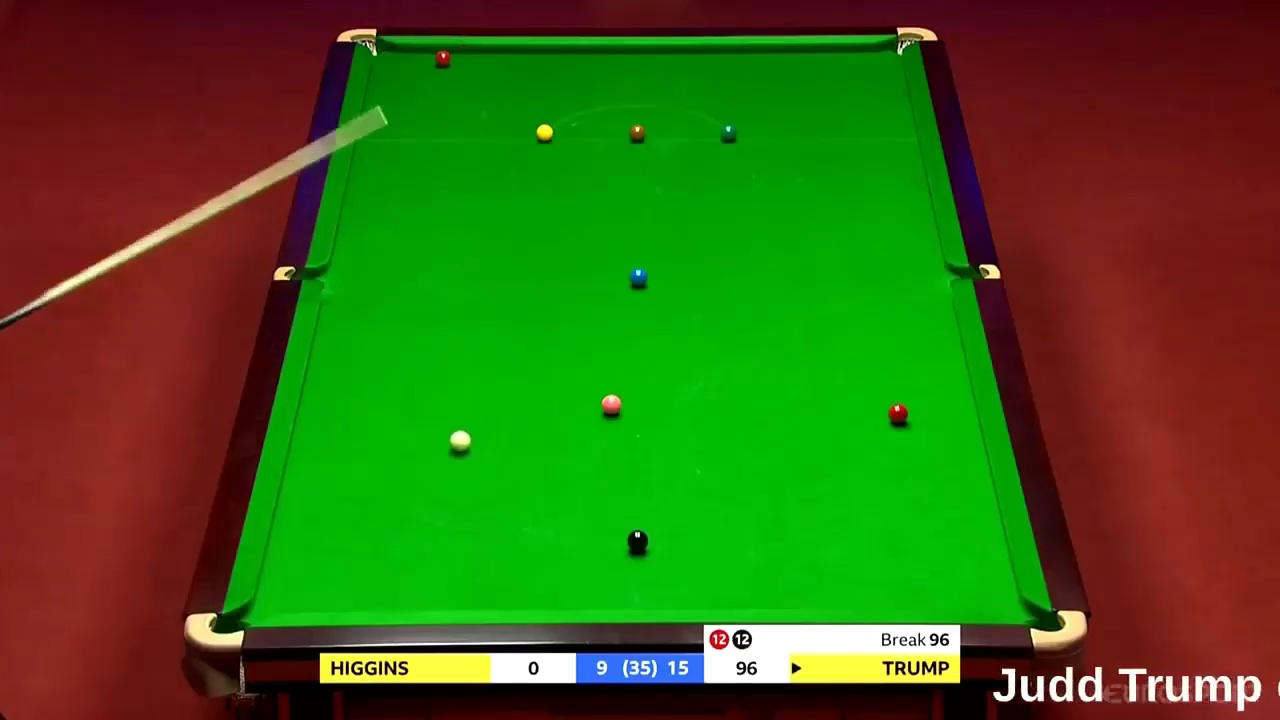ball: (623, 527, 651, 556), (596, 391, 623, 421), (446, 429, 474, 455), (886, 402, 910, 425), (625, 267, 648, 288), (626, 123, 650, 143), (719, 122, 739, 144), (532, 123, 553, 141), (433, 49, 452, 65)
